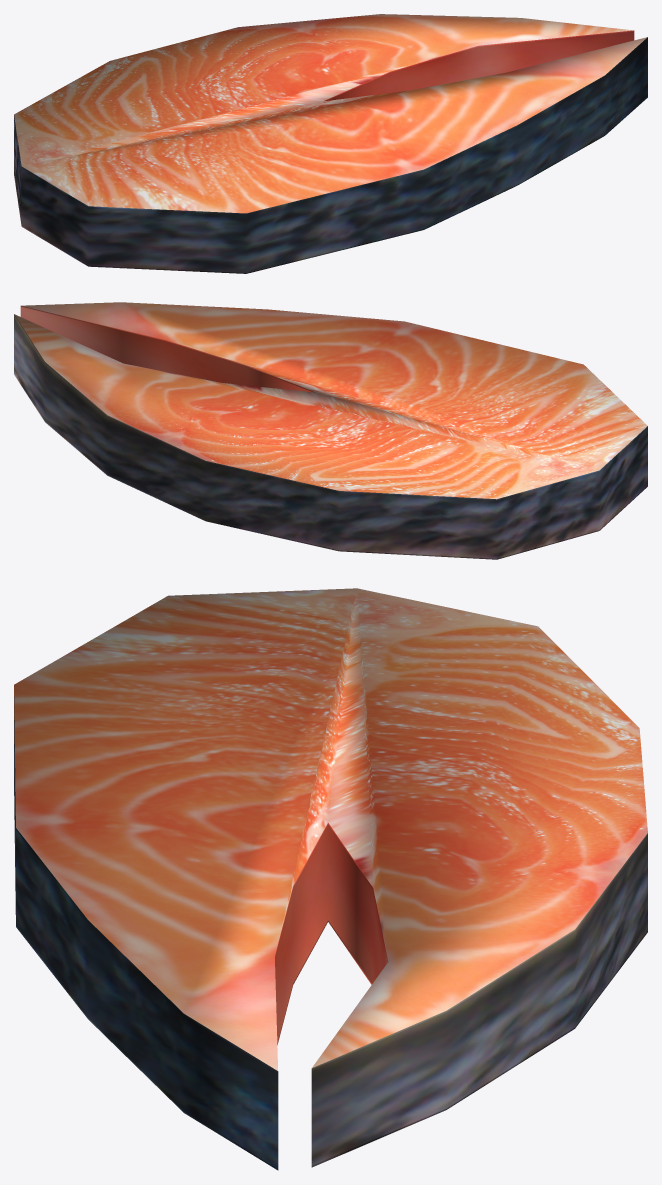
File: fish.fbx
The picture shows the model from 3 angles, top to bottom: view 1: azimuth 30°, elevation 25°; view 2: azimuth 150°, elevation 25°; view 3: azimuth 270°, elevation 25°; orthographic projection. The views are drawn at different scales.
Parts seen in each view (by area): view 1: Plane; view 2: Plane; view 3: Plane.
Boxes of the visible parts, left/top/right/bottom form: Plane: left=14, top=14, right=647, bottom=273; Plane: left=14, top=302, right=647, bottom=559; Plane: left=14, top=588, right=647, bottom=1170.
Size of the model in its own units: 450 by 43.14 by 249.
